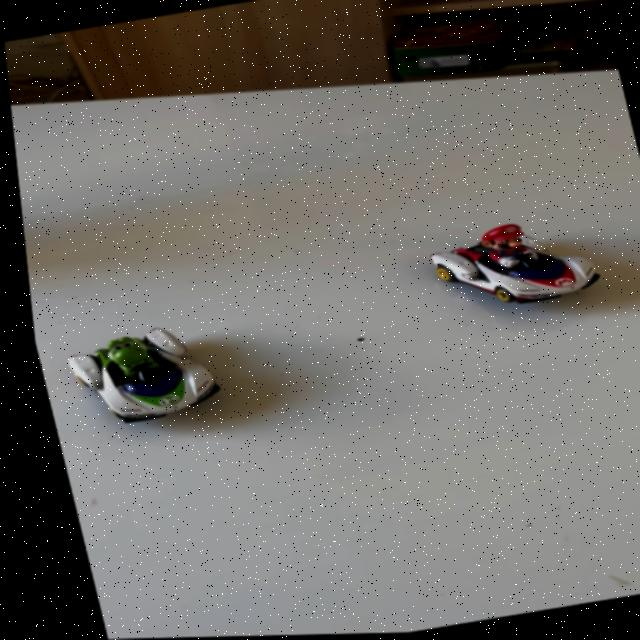mario: (397, 200, 620, 331)
yoshi: (45, 308, 240, 441)
